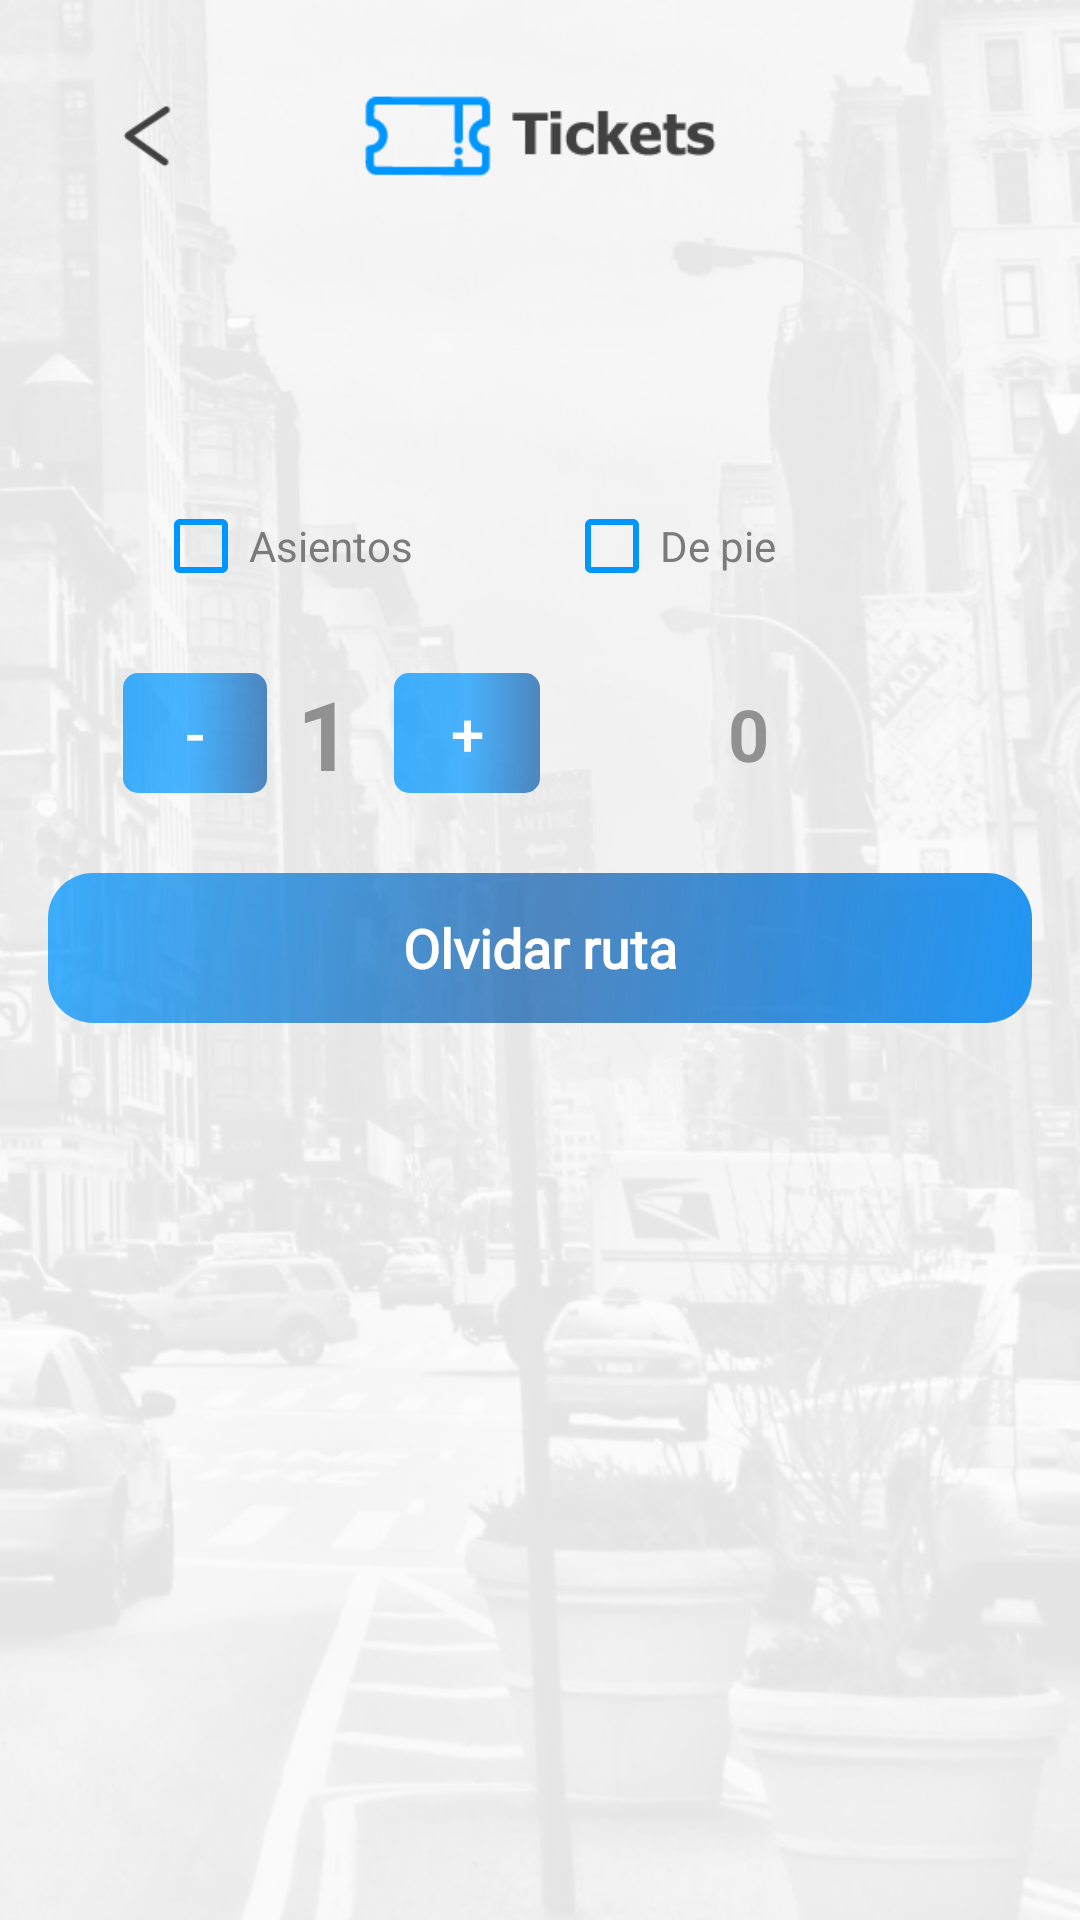

Icon bounding boxes for this 1080px×1920px phone screenshot, format (x1, y1, x2, y2):
back: (124, 106, 170, 166)
